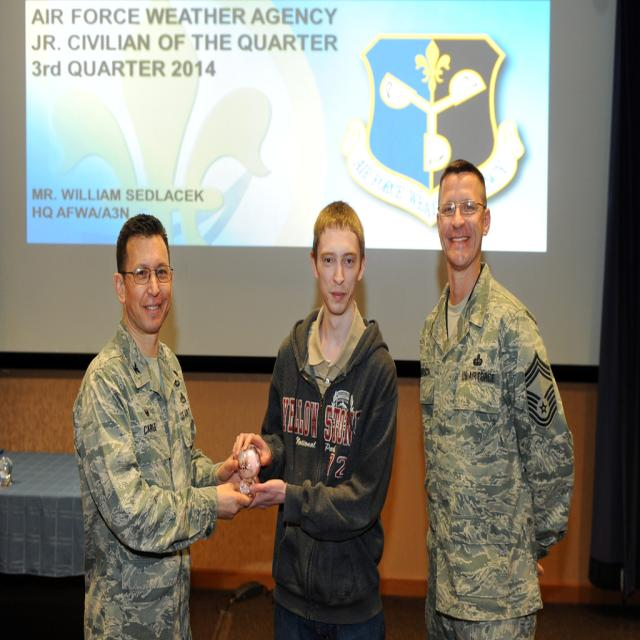no_helmet: (113, 242, 175, 276), (431, 198, 493, 231), (308, 234, 371, 266)
